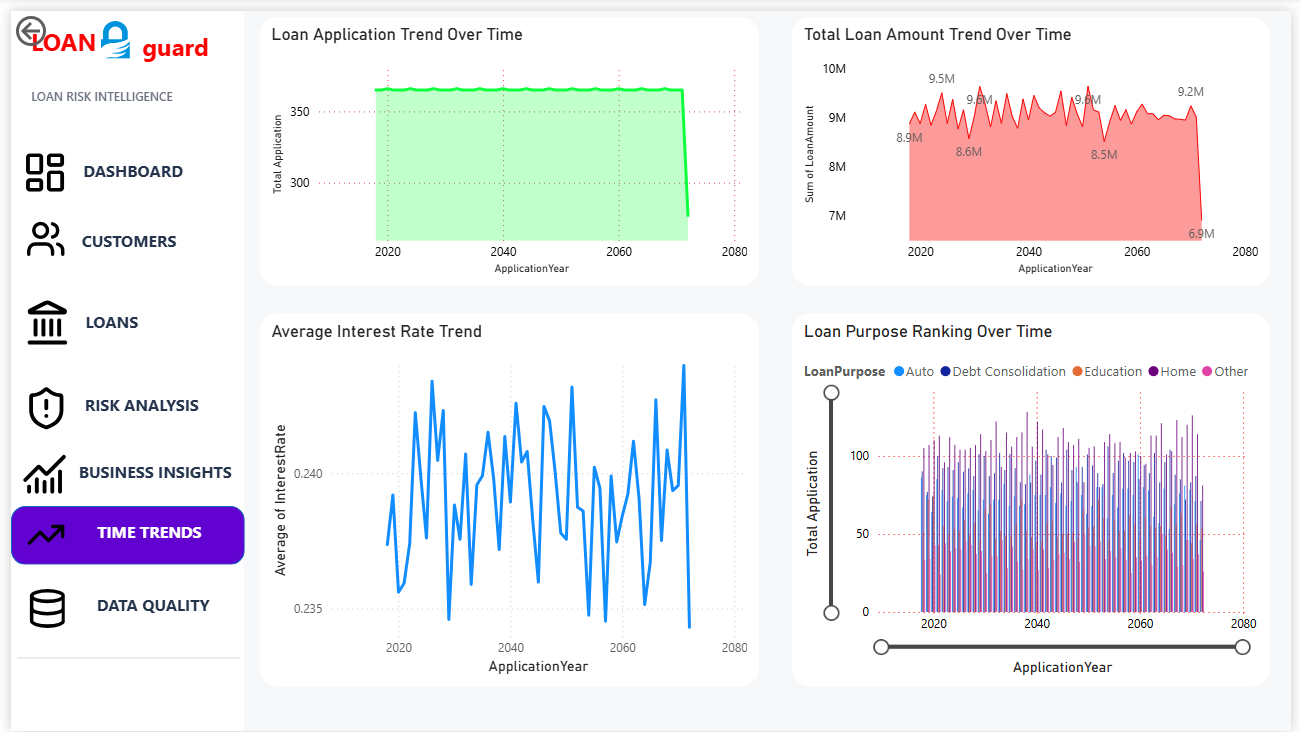

What the dashboard file says about the page in this screenshot:
{"tool":"powerbi","page":{"name":"Time Trends","canvas":[1280,720],"ordinal":5},"visuals":[{"type":"shape","box":[0,0,233.2,720],"z":0},{"type":"textbox","box":[8.8,70.8,222.3,32.9],"z":0,"group":"g1"},{"type":"shape","box":[6.6,632.5,222.3,28.8],"z":0,"group":"g2"},{"type":"textbox","box":[28.1,207.2,181.1,51.5],"z":1000,"group":"g1"},{"type":"shape","box":[0,495,233.8,58.8],"z":1000},{"type":"group","id":"g1","title":"Group 3","box":[6.6,10,224.5,651.2],"z":2000},{"type":"textbox","box":[12.9,287.7,176.7,50.9],"z":2000,"group":"g1"},{"type":"actionButton","box":[0,138.8,182.5,40],"z":3000},{"type":"textbox","box":[54.4,437.3,176.1,50.9],"z":3000,"group":"g1"},{"type":"actionButton","box":[0,203.8,192.5,45],"z":4000},{"type":"textbox","box":[33.6,369.9,189.2,50.9],"z":4000,"group":"g1"},{"type":"actionButton","box":[5,288.8,192.5,50],"z":5000},{"type":"textbox","box":[50.4,497.5,176.7,50.9],"z":5000,"group":"g1"},{"type":"textbox","box":[34.5,136.4,176.7,50.9],"z":6000,"group":"g1"},{"type":"actionButton","box":[0,370,192.5,50],"z":6000},{"type":"image","box":[8.8,207.2,52.5,41.1],"z":7000,"group":"g1"},{"type":"actionButton","box":[16.2,436.2,207.5,50],"z":7000},{"type":"image","box":[12.2,138.4,45.6,46],"z":8000,"group":"g1"},{"type":"actionButton","box":[8.8,572.5,192.5,50],"z":8000},{"type":"lineChart","title":"Loan Application Trend Over Time","fields":{"Category":["loanguard loan_applications.ApplicationYear"],"Y":["loanguard loan_applications.Total Application"]},"box":[248.5,6,499.5,269],"z":9000},{"type":"image","box":[8.8,287.7,55.2,47.7],"z":9000,"group":"g1"},{"type":"areaChart","title":"Total Loan Amount Trend Over Time","fields":{"Category":["loanguard loan_applications.ApplicationYear"],"Y":["Sum(loanguard loan_applications.LoanAmount)"]},"box":[781.8,6,477.8,269],"z":10000},{"type":"image","box":[12.9,373.2,45.6,47.7],"z":10000,"group":"g1"},{"type":"lineChart","title":"Average Interest Rate Trend","fields":{"Category":["loanguard loan_applications.ApplicationYear"],"Y":["Avg(loanguard loan_applications.InterestRate)"]},"box":[248.5,302.8,499.5,372.8],"z":11000},{"type":"image","box":[8.8,440.6,49.7,46],"z":11000,"group":"g1"},{"type":"actionButton","box":[0,0,100,40],"z":12000},{"type":"image","box":[15.4,495,40,57.5],"z":12000,"group":"g1"},{"type":"clusteredColumnChart","title":"Loan Purpose Ranking Over Time","fields":{"Category":["loanguard loan_applications.ApplicationYear"],"Y":["loanguard loan_applications.Total Application"],"Series":["loanguard loan_applications.LoanPurpose"]},"box":[781.8,302.8,477.8,372.8],"z":13000},{"type":"image","box":[14.1,576.2,45.6,42.7],"z":13000,"group":"g1"},{"type":"textbox","box":[15.7,10,85.6,60.8],"z":14000,"group":"g1"},{"type":"image","box":[79.2,10,51.1,37.8],"z":15000,"group":"g1"},{"type":"textbox","box":[126.2,14.9,87,54.2],"z":16000,"group":"g1"},{"type":"group","id":"g2","title":"Group 1","box":[6.6,632.5,222.5,28.8],"z":17000,"group":"g1"},{"type":"textbox","box":[54.1,570,176.7,50.9],"z":18000,"group":"g1"}]}

Visuals, with their boxes in screenshot pixels (x1, y1, x2, y2), scaled from the page's 1280x720 canvas onto the 1300x732 screenshot:
shape: <region>0, 0, 237, 731</region>
textbox: <region>9, 72, 235, 105</region>
shape: <region>7, 643, 232, 672</region>
textbox: <region>29, 211, 212, 263</region>
shape: <region>0, 503, 237, 563</region>
"Group 3" group: <region>7, 10, 235, 672</region>
textbox: <region>13, 292, 193, 344</region>
actionButton: <region>0, 141, 185, 182</region>
textbox: <region>55, 445, 234, 496</region>
actionButton: <region>0, 207, 196, 253</region>
textbox: <region>34, 376, 226, 428</region>
actionButton: <region>5, 294, 201, 344</region>
textbox: <region>51, 506, 231, 558</region>
textbox: <region>35, 139, 214, 190</region>
actionButton: <region>0, 376, 196, 427</region>
image: <region>9, 211, 62, 252</region>
actionButton: <region>16, 443, 227, 494</region>
image: <region>12, 141, 59, 187</region>
actionButton: <region>9, 582, 204, 633</region>
"Loan Application Trend Over Time" lineChart: <region>252, 6, 760, 280</region>
image: <region>9, 292, 65, 341</region>
"Total Loan Amount Trend Over Time" areaChart: <region>794, 6, 1279, 280</region>
image: <region>13, 379, 59, 428</region>
"Average Interest Rate Trend" lineChart: <region>252, 308, 760, 687</region>
image: <region>9, 448, 59, 495</region>
actionButton: <region>0, 0, 102, 41</region>
image: <region>16, 503, 56, 562</region>
"Loan Purpose Ranking Over Time" clusteredColumnChart: <region>794, 308, 1279, 687</region>
image: <region>14, 586, 61, 629</region>
textbox: <region>16, 10, 103, 72</region>
image: <region>80, 10, 132, 49</region>
textbox: <region>128, 15, 217, 70</region>
"Group 1" group: <region>7, 643, 233, 672</region>
textbox: <region>55, 580, 234, 631</region>
